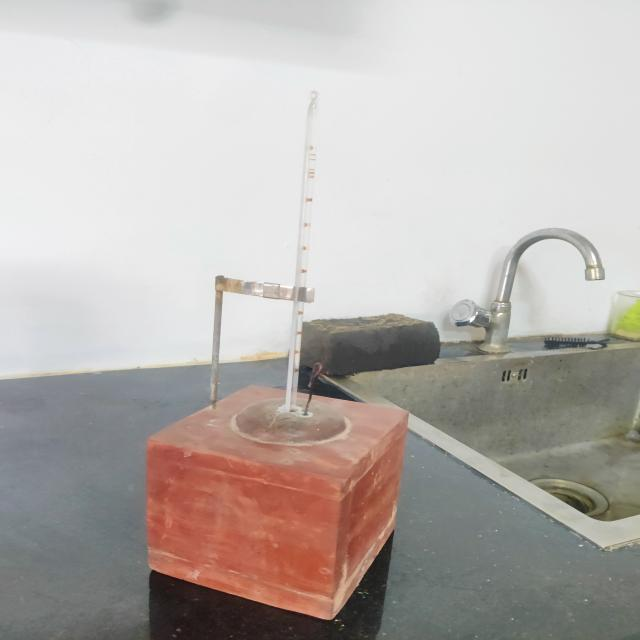Calorimeter: (103, 69, 461, 640)
